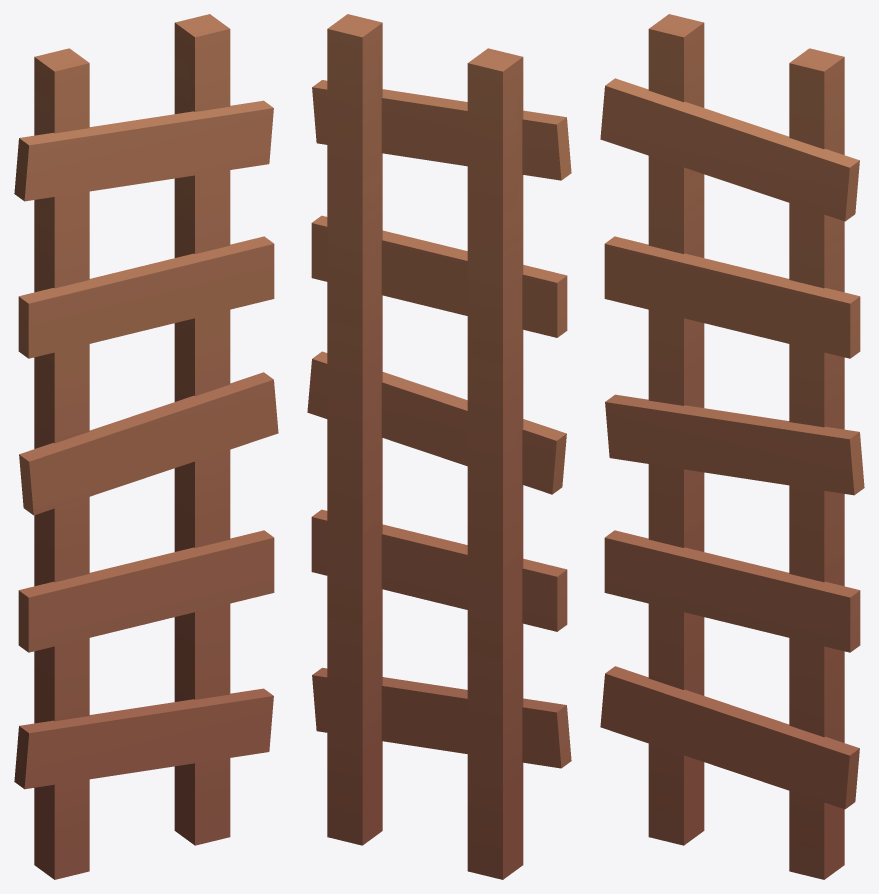
The model's file is kaykit-medieval-hexagon-pack-ladder.glb.
The picture shows the model from 3 angles, left to right: view 1: azimuth 30°, elevation 25°; view 2: azimuth 150°, elevation 25°; view 3: azimuth 330°, elevation 25°; orthographic projection.
Parts seen in each view (by area): view 1: ladder; view 2: ladder; view 3: ladder.
Boxes of the visible parts, x1,y1,x2,y2 form: ladder: (14,14,278,879); ladder: (307,14,571,879); ladder: (600,14,864,879).
Bounding box in the file's own units: 0.2533 × 0.77 × 0.0508.
Materials: 1 (1 with a texture image).
